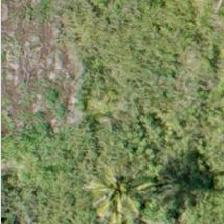Kelapa_Sawit: (72, 145, 163, 223)
